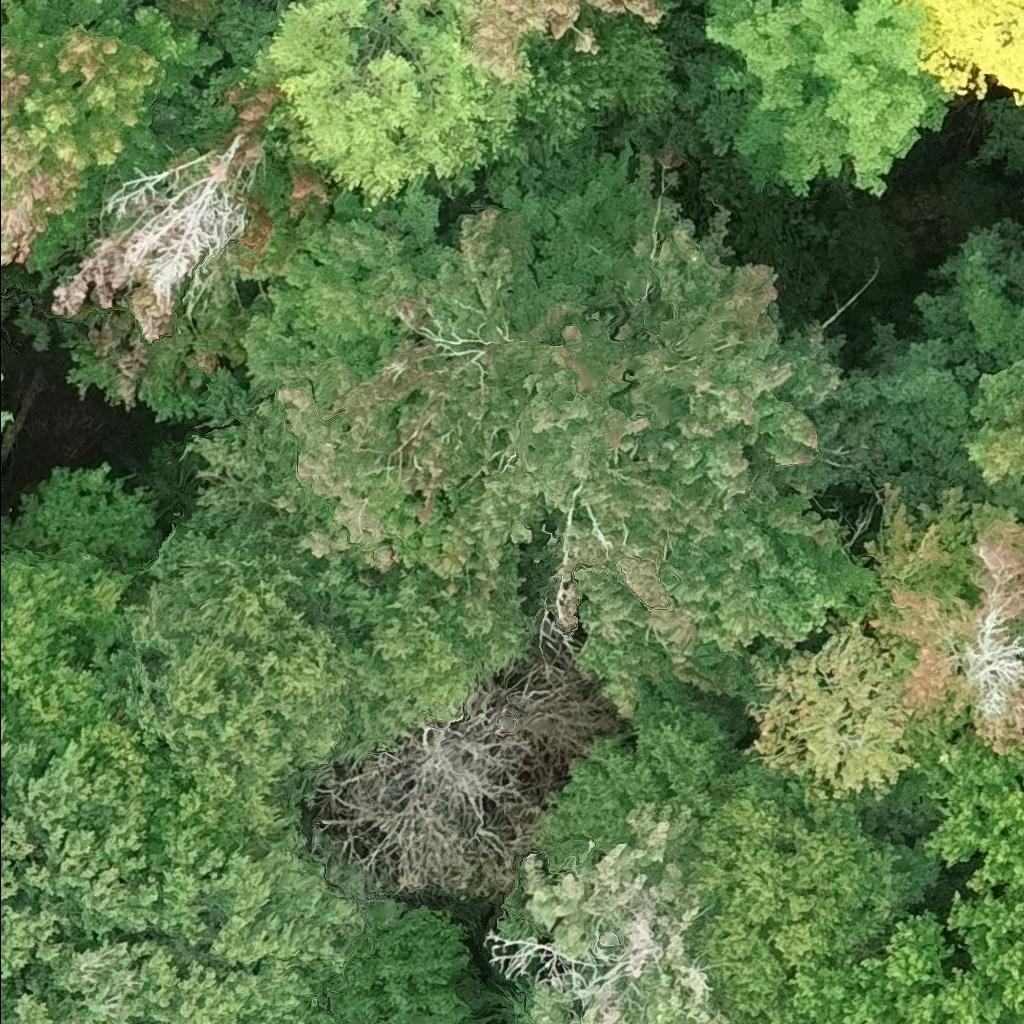crown: (241, 136, 877, 670), (79, 509, 535, 848), (0, 710, 480, 1023), (537, 695, 941, 1023), (275, 665, 620, 895), (778, 737, 1023, 1023), (245, 0, 553, 211), (0, 0, 226, 273), (673, 0, 956, 200), (502, 791, 732, 1023), (0, 459, 156, 771), (866, 481, 1023, 766), (739, 603, 921, 806), (469, 0, 667, 79), (913, 0, 1023, 110), (960, 353, 1023, 521), (0, 0, 12, 23), (0, 353, 6, 384)
